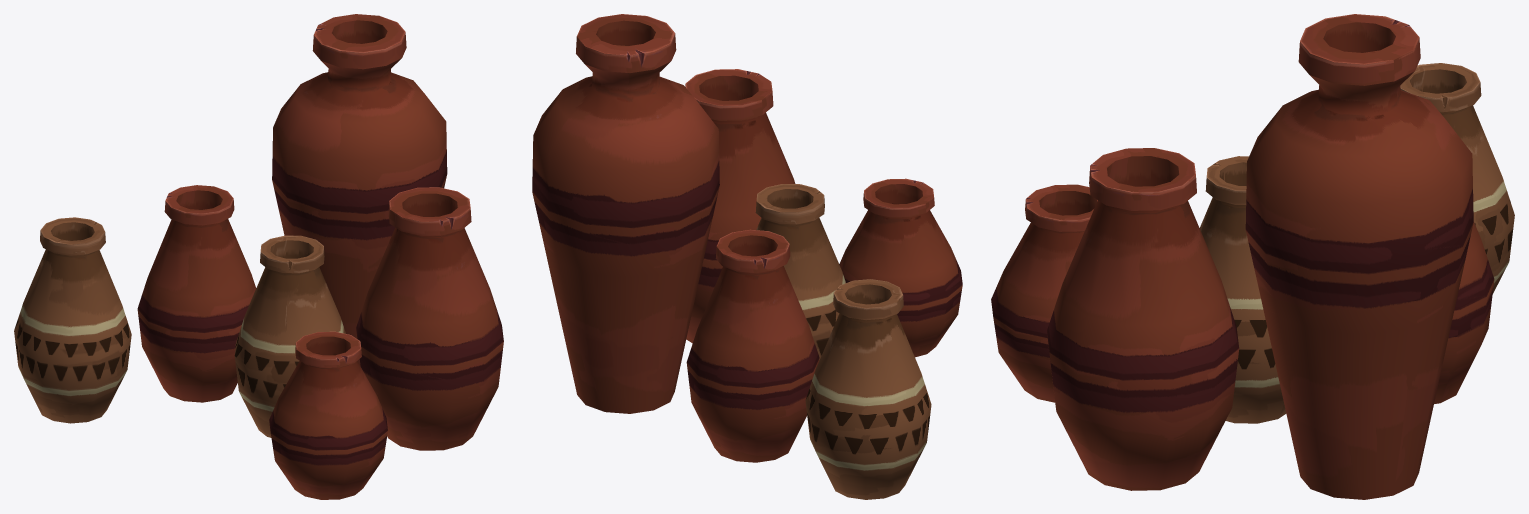
Rendered from pots4.fbx.
The picture shows the model from 3 angles, left to right: view 1: azimuth 30°, elevation 25°; view 2: azimuth 150°, elevation 25°; view 3: azimuth 270°, elevation 25°; orthographic projection. The views are drawn at different scales.
Parts seen in each view (by area): view 1: SM_PROP_pot_dungeon_04.004; view 2: SM_PROP_pot_dungeon_04.004; view 3: SM_PROP_pot_dungeon_04.004.
Boxes of the visible parts, bbox=[...] form: SM_PROP_pot_dungeon_04.004: bbox=[14, 14, 503, 499]; SM_PROP_pot_dungeon_04.004: bbox=[532, 14, 962, 499]; SM_PROP_pot_dungeon_04.004: bbox=[991, 14, 1514, 499].
Size of the model in its own units: 2.34 by 1.96 by 2.13.
Materials: 1 (1 with a texture image).
